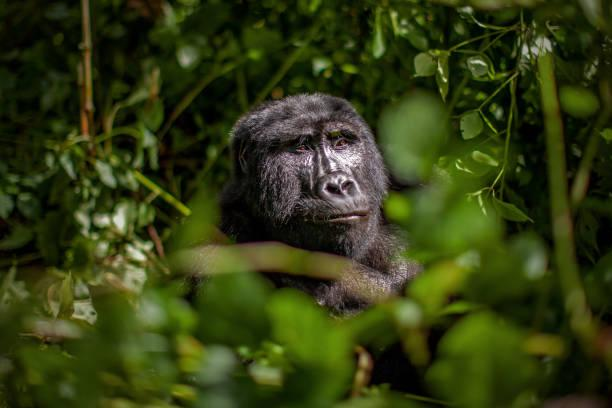goriile_montagne: (226, 80, 436, 320)
